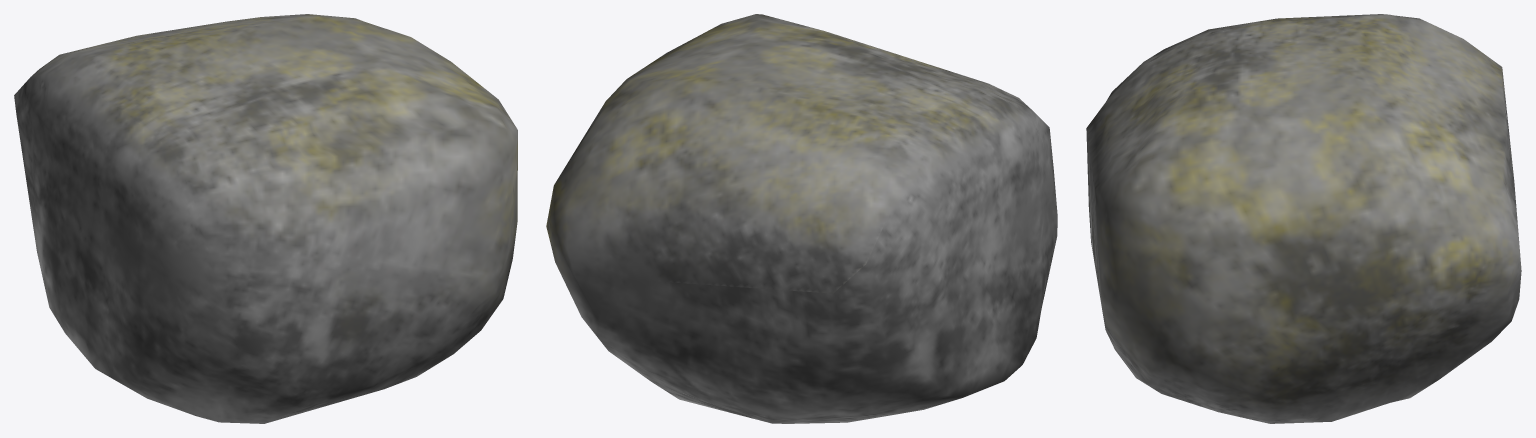
The model's file is rock4.fbx.
3 renders of one model, left to right at view 1: azimuth 30°, elevation 25°; view 2: azimuth 150°, elevation 25°; view 3: azimuth 270°, elevation 25°, orthographic. The views are drawn at different scales.
Parts seen in each view (by area): view 1: kamenstredny2_lp.001; view 2: kamenstredny2_lp.001; view 3: kamenstredny2_lp.001.
Part boxes in pixels (<box>): kamenstredny2_lp.001: <box>14,14,517,423</box>; kamenstredny2_lp.001: <box>546,14,1057,423</box>; kamenstredny2_lp.001: <box>1086,14,1521,423</box>.
Bounding box in the file's own units: 42.38 × 33.91 × 42.71.
